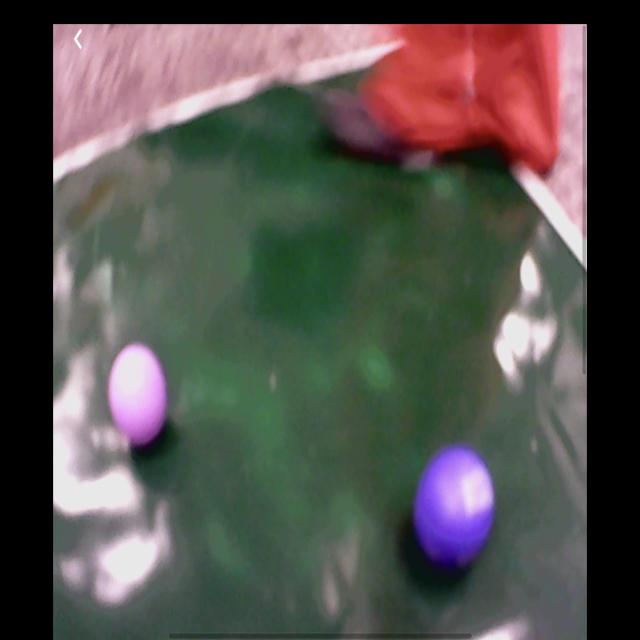ball: (418, 444, 495, 575), (108, 345, 169, 446)
